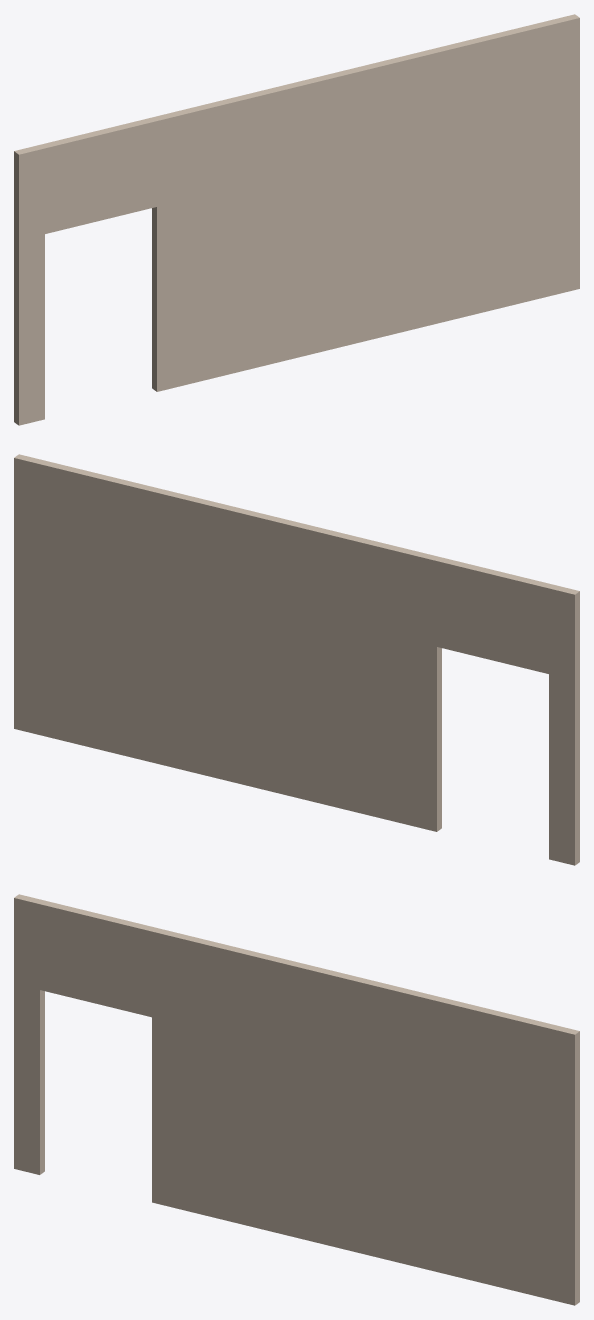
File: Room02_wall3.gltf
3 views of the same model, one above another, from view 1: azimuth 30°, elevation 25°; view 2: azimuth 150°, elevation 25°; view 3: azimuth 330°, elevation 25° (orthographic).
Bounding box in the file's own units: 130 × 60 × 2.
